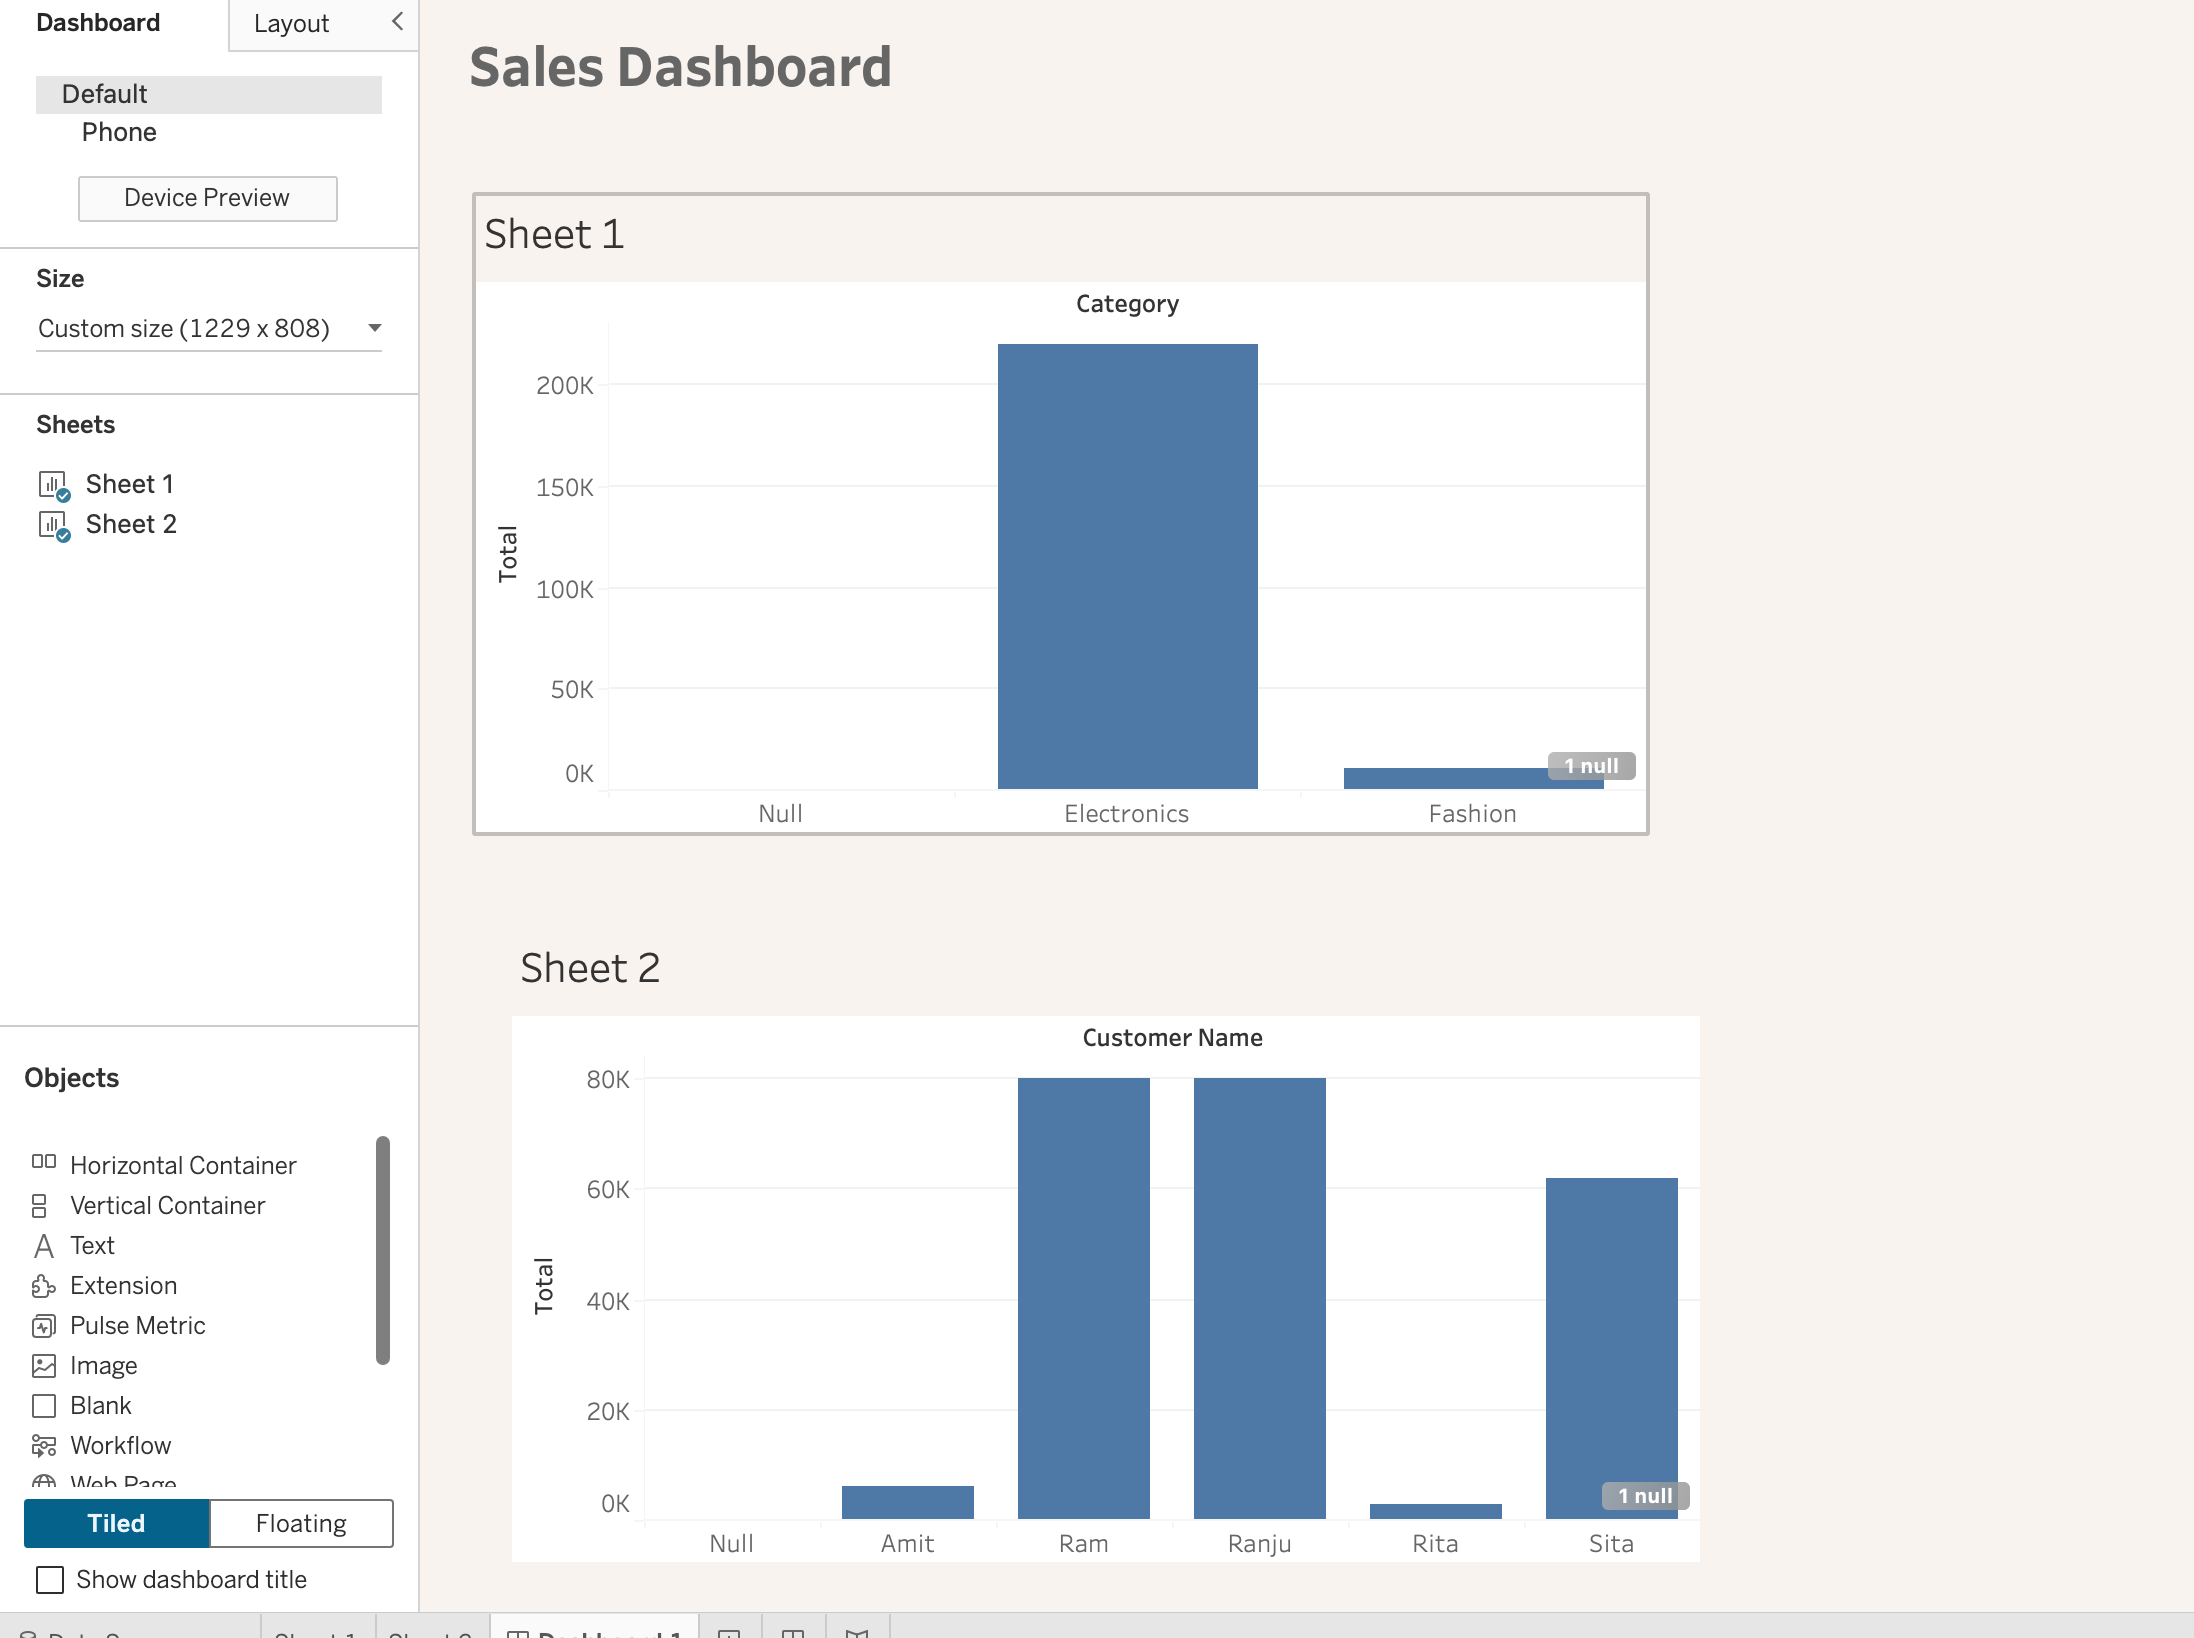

What the dashboard file says about the page in this screenshot:
{"tool":"tableau","page":{"name":"Dashboard 1","canvas":[1229,808],"ordinal":0},"visuals":[{"type":"text","box":[22,17,218,37]},{"type":"worksheet","title":"Sheet 1","mark":"Automatic","rows":["Total"],"cols":["Category"],"box":[28,62,608,357]},{"type":"worksheet","title":"Sheet 2","mark":"Automatic","rows":["Total"],"cols":["Customer_Name"],"box":[46,468,594,316]}]}

Visuals, with their boxes on the page's 1229x808 design canvas (x1, y1, x2, y2). These are canvas units, not pixel positions in the 2194x1638 screenshot, which may show the page scaled, cropped or inside an application window:
text: x1=22 y1=17 x2=240 y2=54
"Sheet 1" worksheet: x1=28 y1=62 x2=636 y2=419
"Sheet 2" worksheet: x1=46 y1=468 x2=640 y2=784
